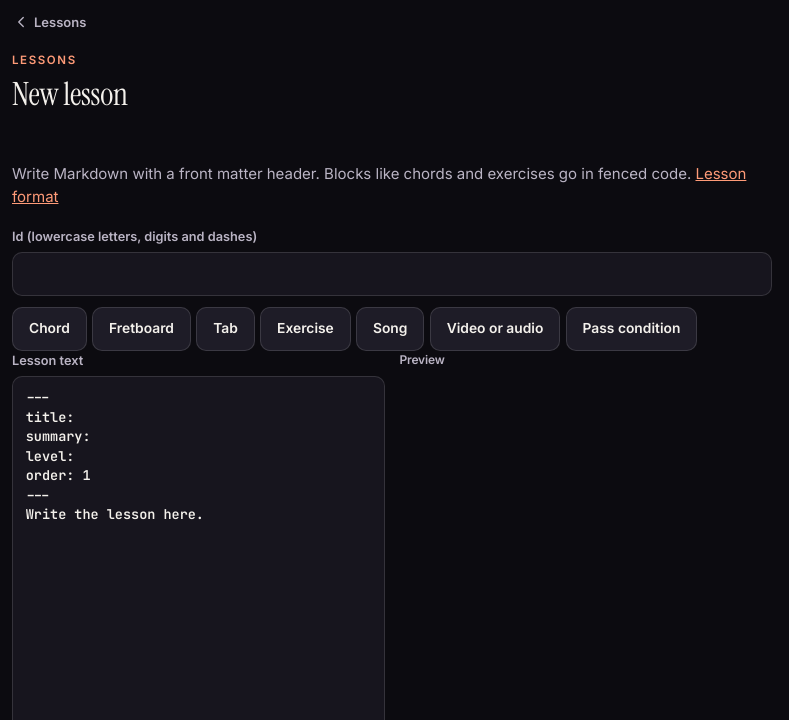
Scenario: LessonEditor › shows a save error and stays put
Type "x" into the field with test id "lesson-id". click: (392,274)
box: [12,252,772,296]
(page scrolled)
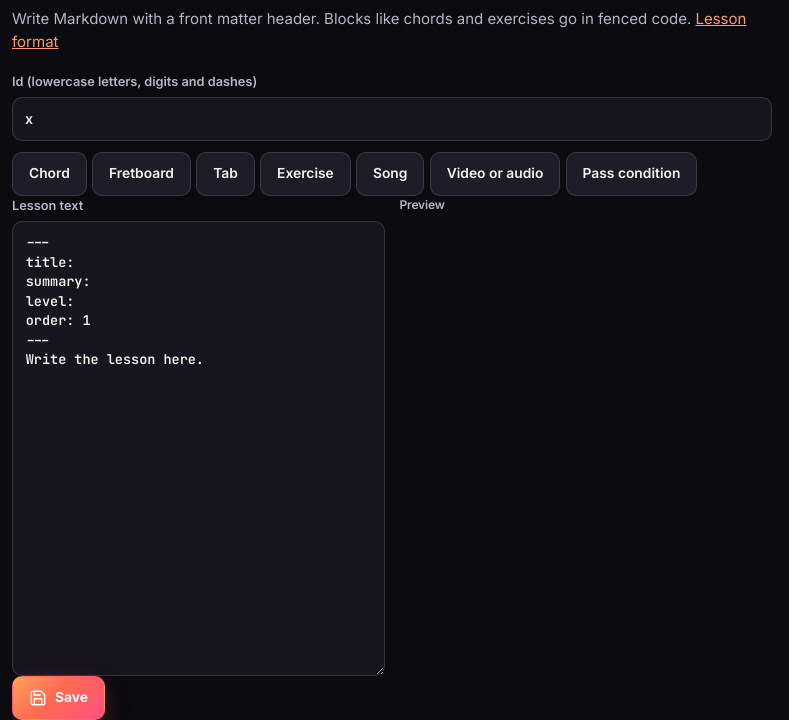
Click the button with test id "lesson-save". click: (59,698)
box: [12,676,105,719]
(page scrolled)
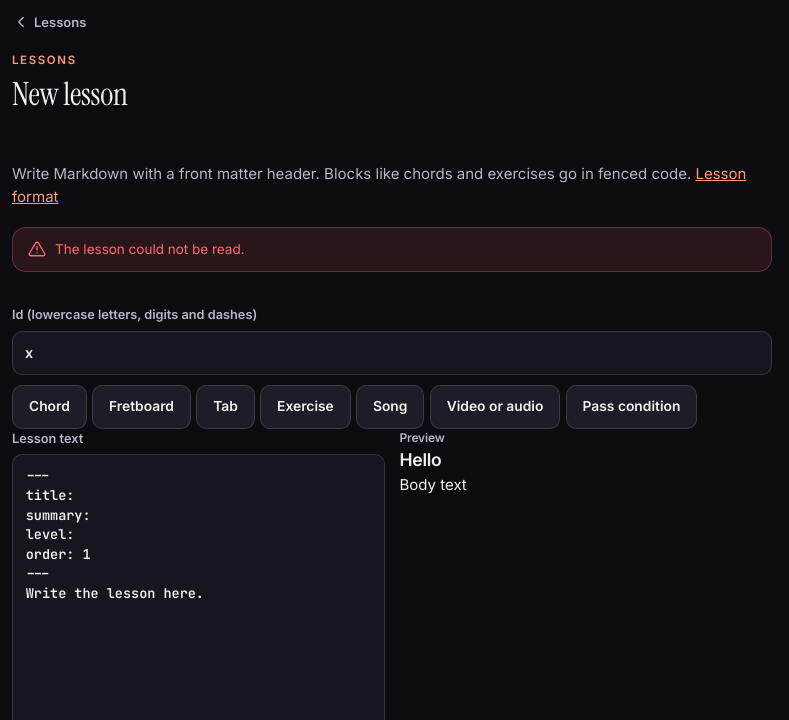
Check: the message shows "could not be read", box [55,241,245,257]
